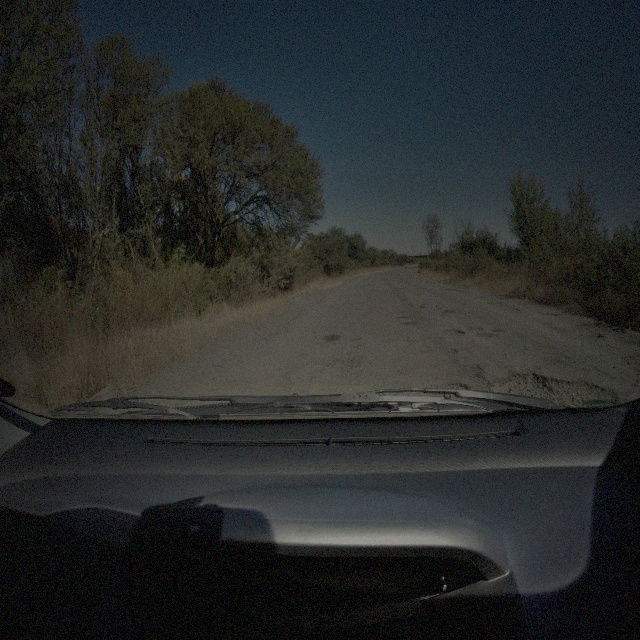pothole: (487, 364, 618, 410), (442, 325, 464, 337), (448, 376, 468, 389)
